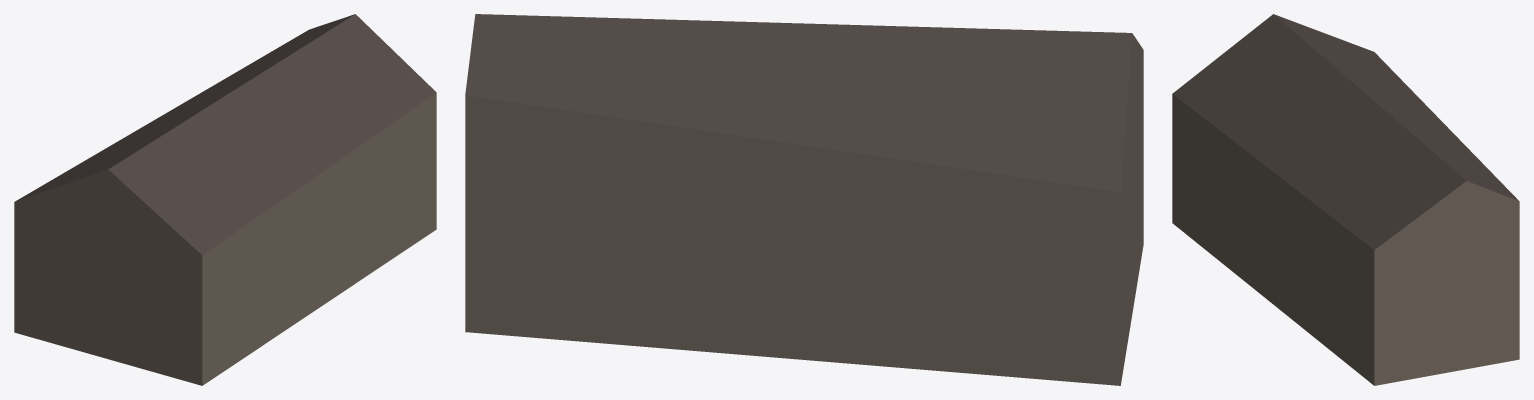
3 renders of one model, left to right at view 1: azimuth 30°, elevation 25°; view 2: azimuth 150°, elevation 25°; view 3: azimuth 270°, elevation 25°, orthographic. The views are drawn at different scales.
Parts seen in each view (by area): view 1: HP-w1287259394; view 2: HP-w1287259394; view 3: HP-w1287259394.
Part boxes in pixels (x1,y1,x2,y2): HP-w1287259394: (14, 14, 436, 385); HP-w1287259394: (465, 14, 1143, 385); HP-w1287259394: (1172, 14, 1519, 385).
Bounding box in the file's own units: 30.5 × 13.09 × 21.88.
